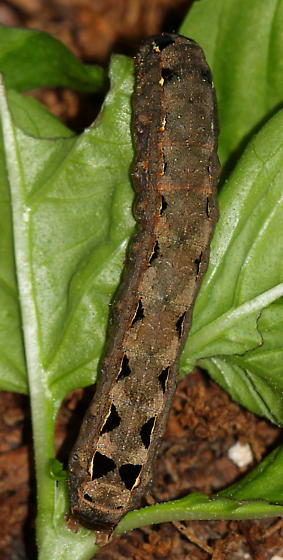Armyworm: (55, 19, 227, 533)
